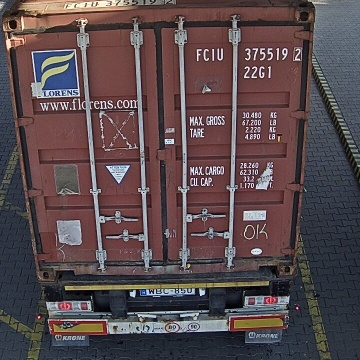serial_id: (196, 48, 302, 61)
